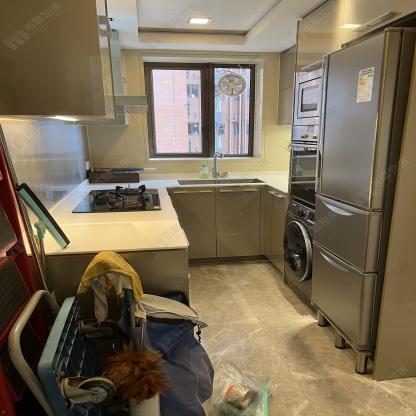Exhaust Fan: (215, 70, 250, 99)
Exhaust Hood: (115, 94, 148, 115)
Faucet: (211, 151, 228, 179)
Fridge: (310, 28, 415, 371)
Oven: (289, 140, 316, 206)
Sink: (171, 176, 276, 187)
Stove: (55, 183, 178, 224)
Washing Machine: (284, 199, 316, 309)
